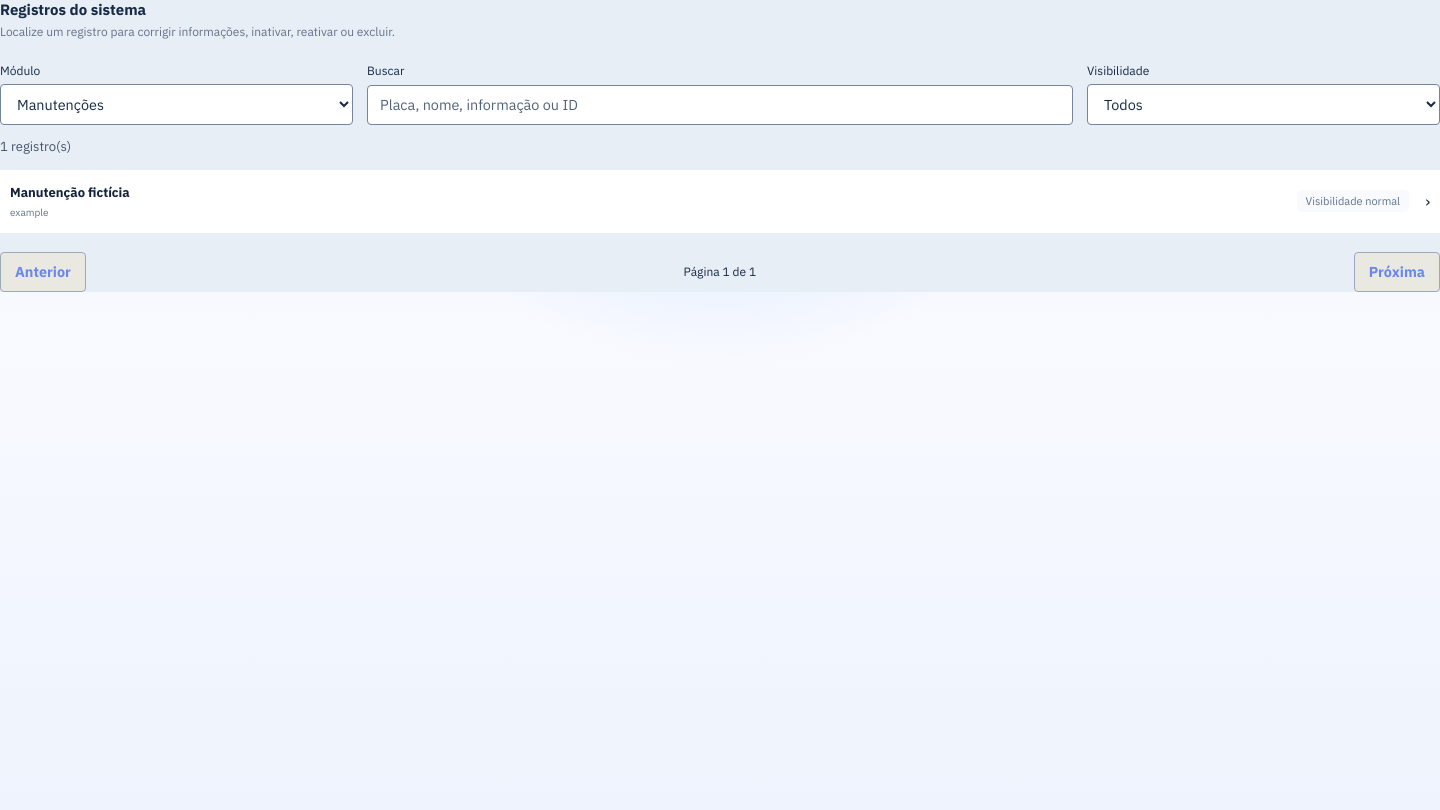
Scenario: explica o impedimento e oferece acesso ao fluxo de solução sem permitir ocultar uma entrega ativa
The image size is (1440, 810).
Click the button "Manutenção fictícia example Visibilidade normal ›": (70, 192) [0,170,1439,234]
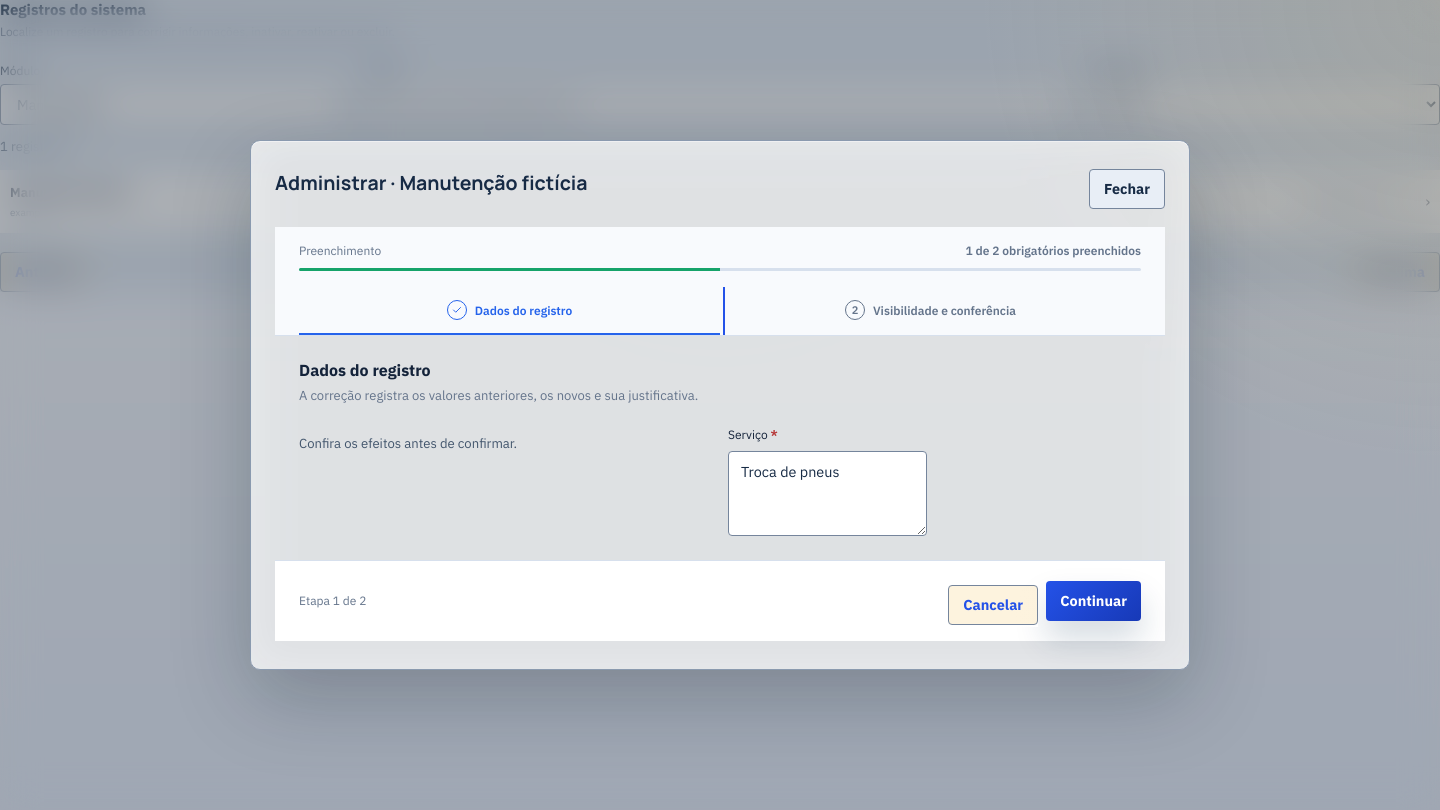
Click the button "Continuar": (1094, 601) [1046,581,1141,621]
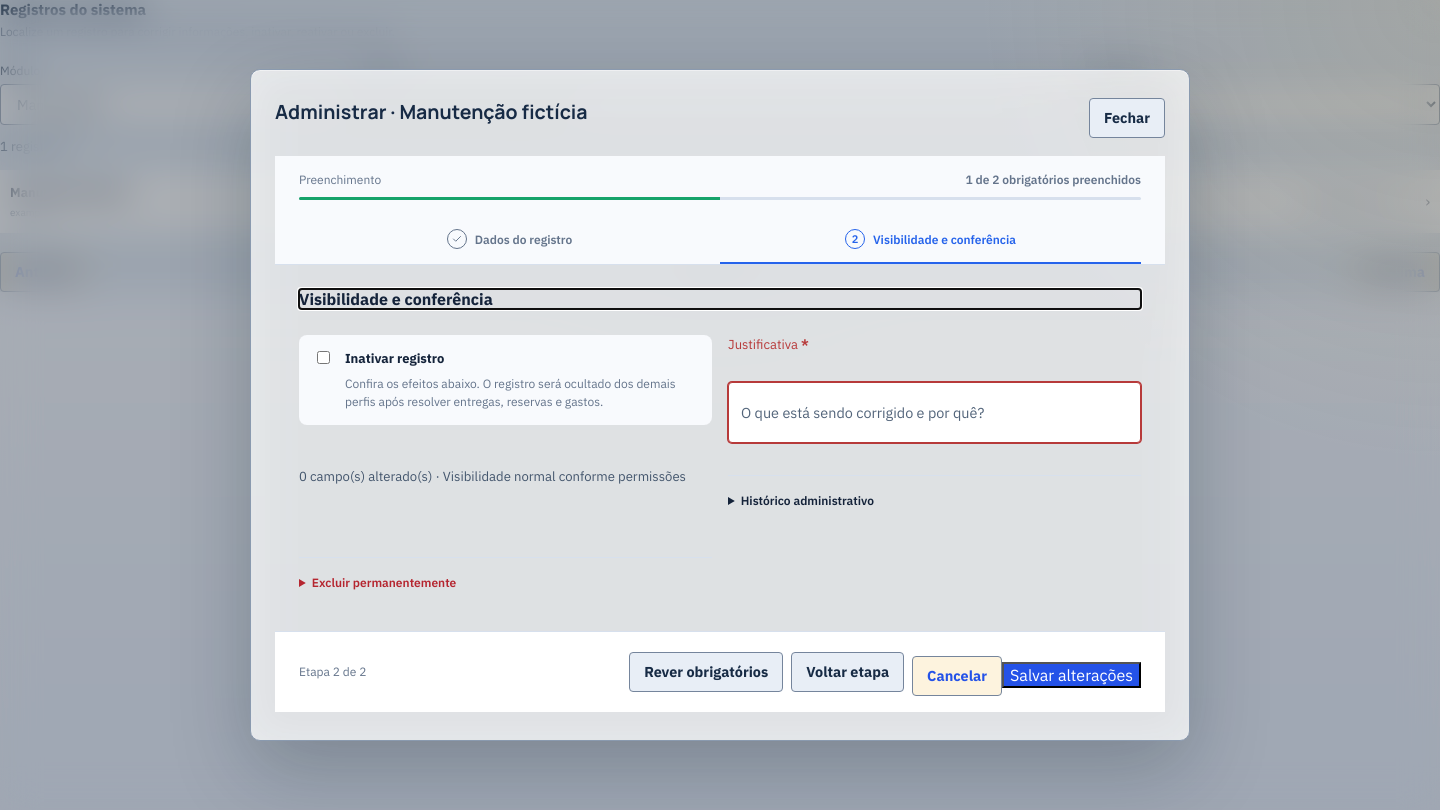
Click the checkbox labelled "Inativar registro": (324, 358) [317,351,330,364]
(page scrolled)
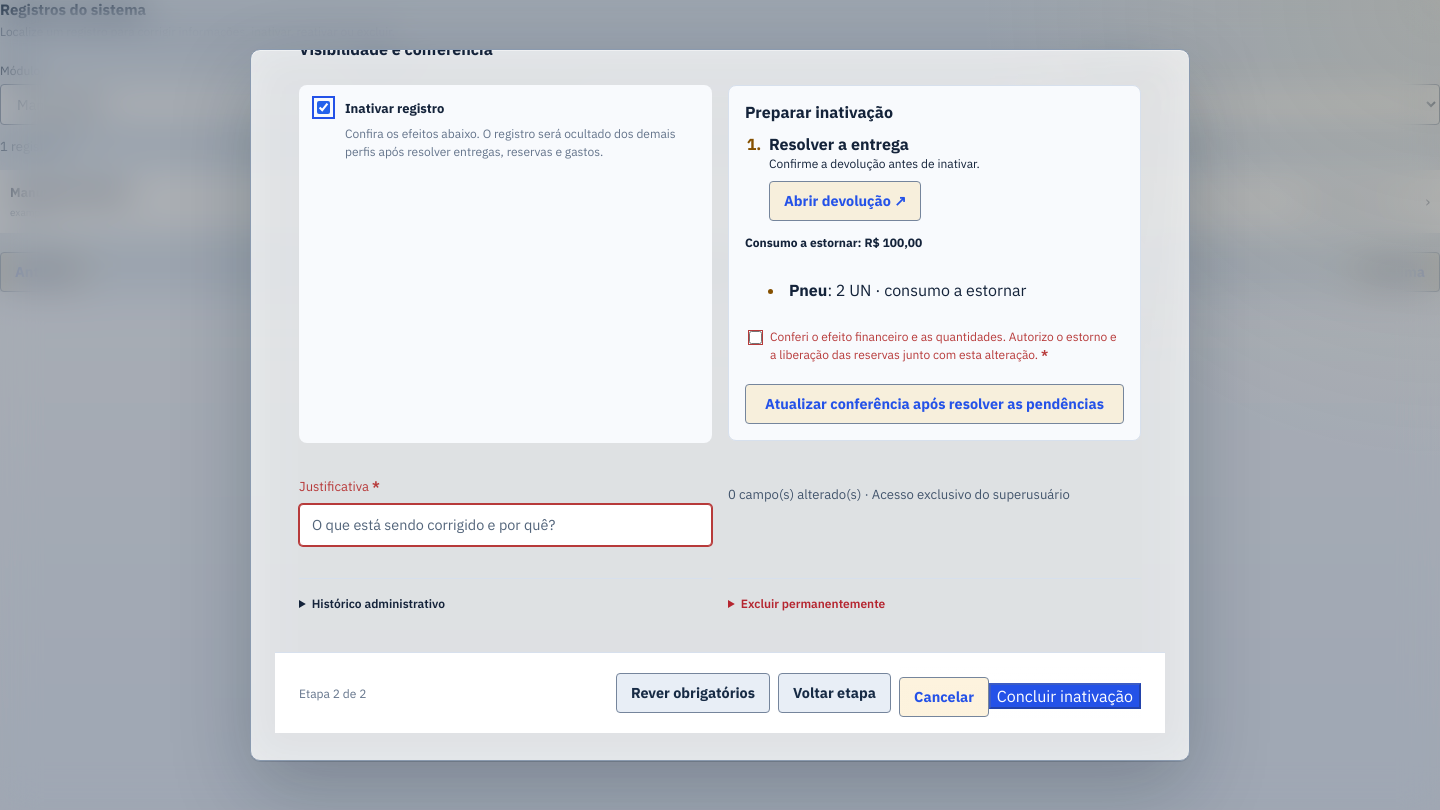
Result: the text "Confirme a devolução antes de inativar." is shown at [769,156,980,171]
Result: the button "Concluir inativação" is disabled at [989,683,1141,709]
